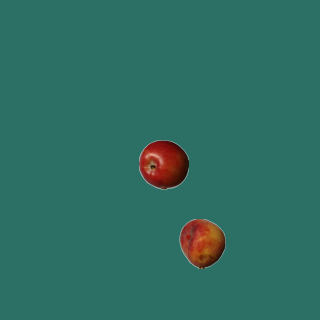Apple Braeburn: (138, 139, 188, 189)
Peach: (177, 218, 227, 268)
